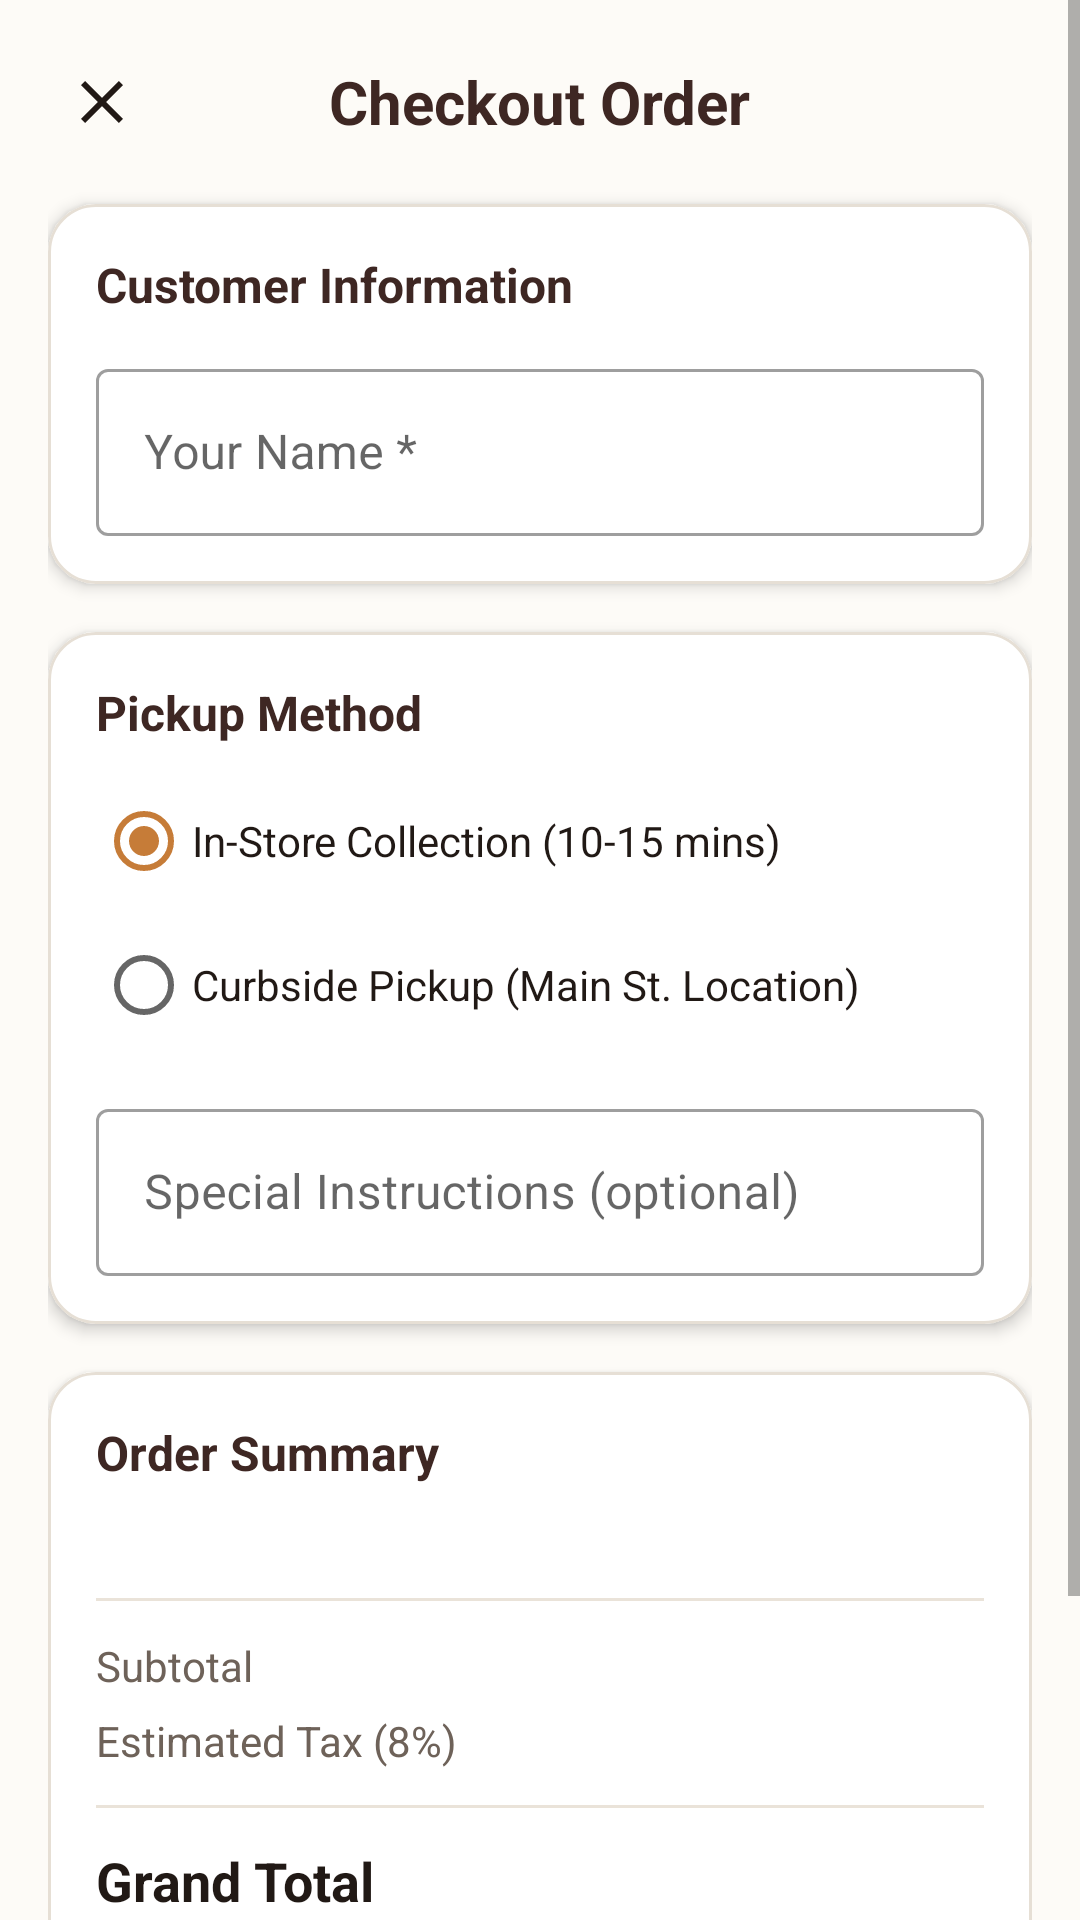

Where icons sit on this 1080x1920 app screen, as {"left": x1, "top": y1, "right": x2, "bottom": y2}:
close: {"left": 81, "top": 81, "right": 123, "bottom": 123}
